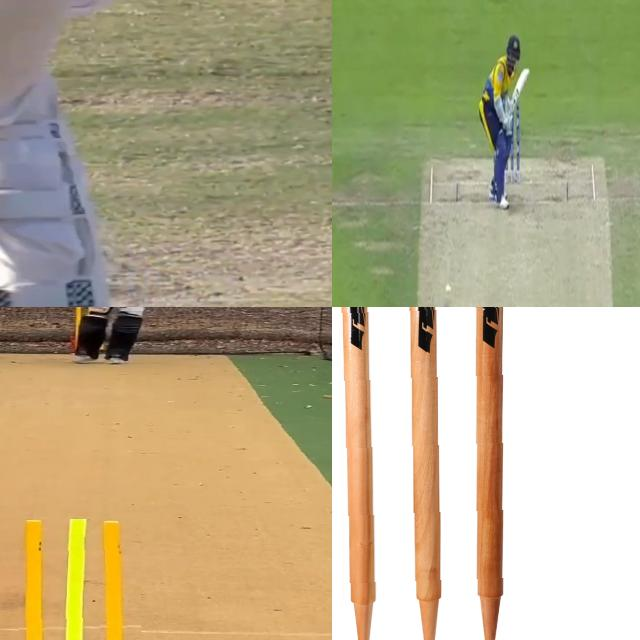Cricket ball: (445, 282, 453, 299)
Stumps: (332, 307, 505, 640), (3, 519, 141, 640)
